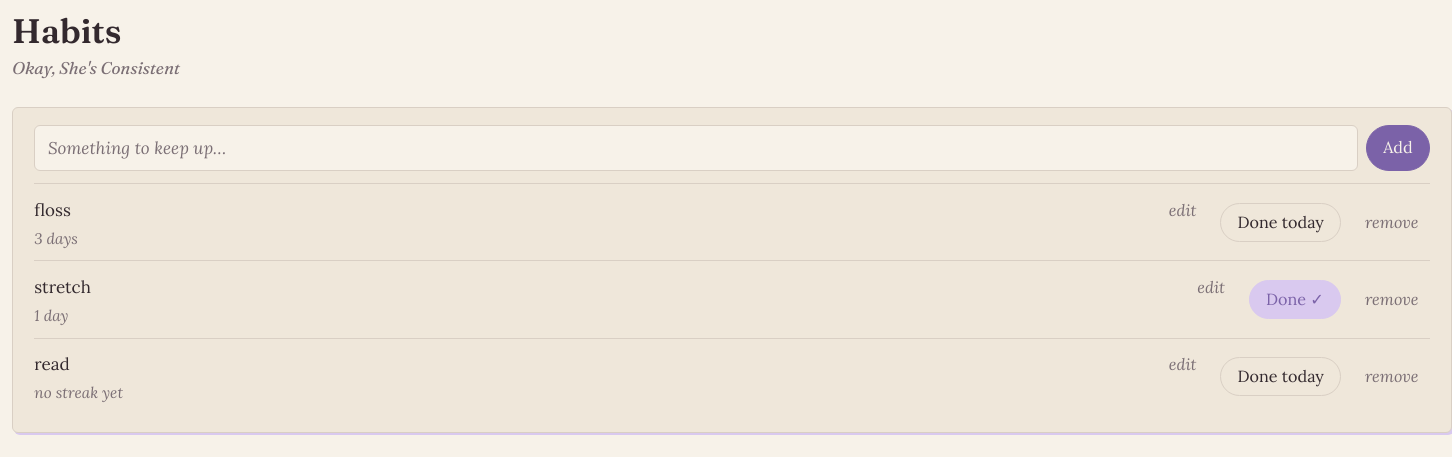
Scenario: renames inline
The width and height of the screenshot is (1452, 457).
Expected: the text "floss" is shown, [34,199,71,221]
Click the button "edit" in the row of "floss".
click(1183, 211)  # box [1158,194,1208,227]
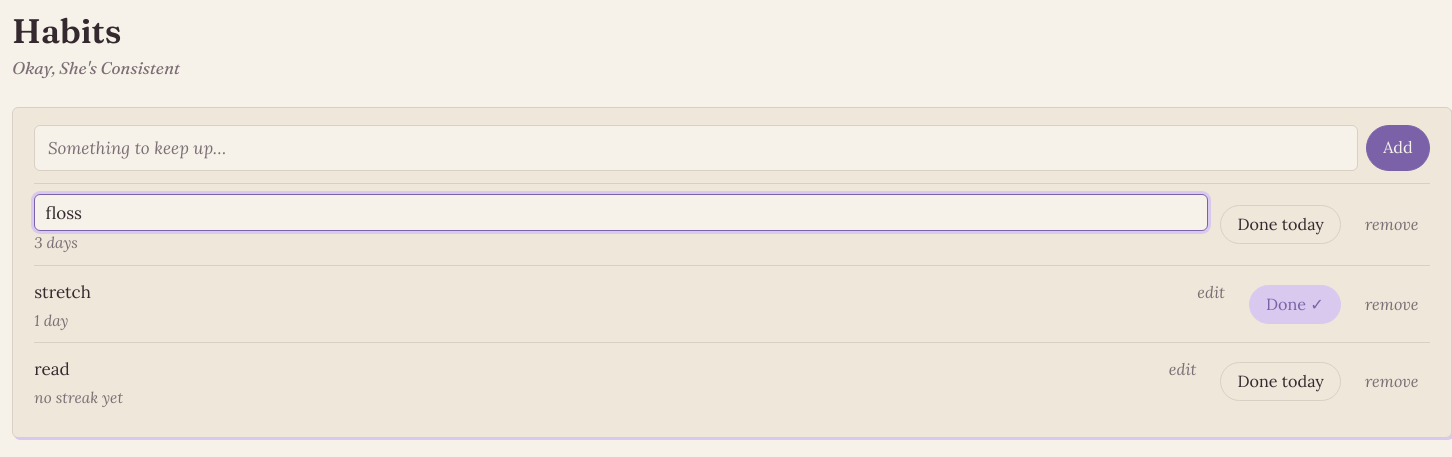
Replace the text in the field named "Habit" with "floss nightly" at x=621, y=213, box [34,194,1208,231]
Then press Enter
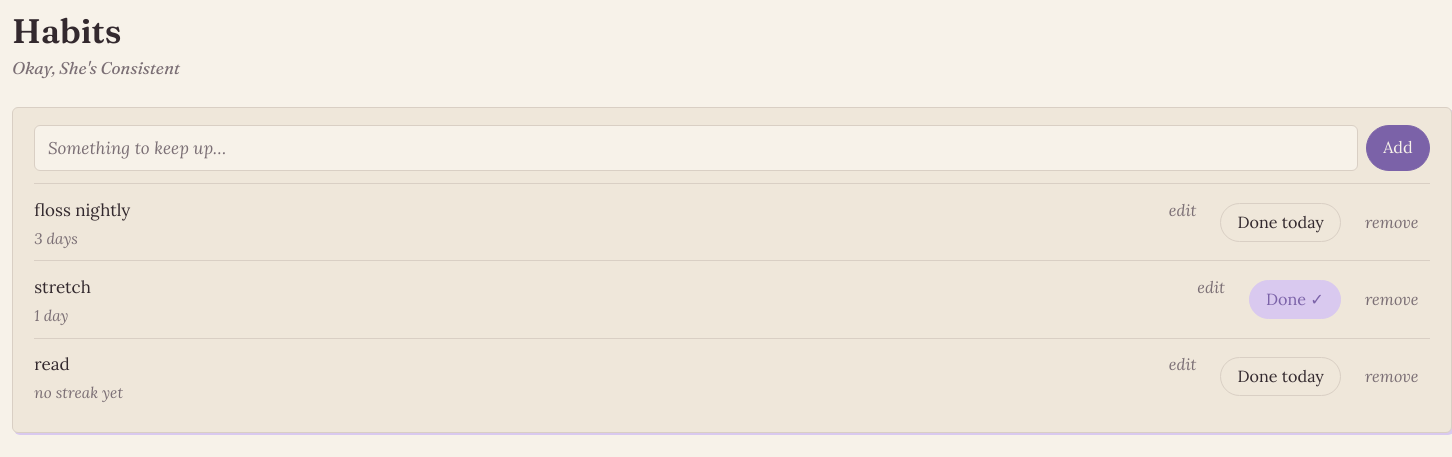
Expected: the text "floss nightly" is shown, [34,199,130,221]
